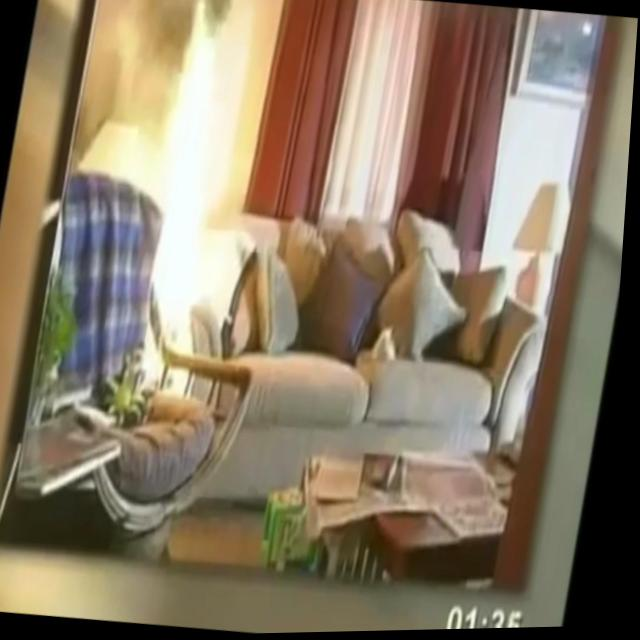fire: (123, 0, 276, 407)
